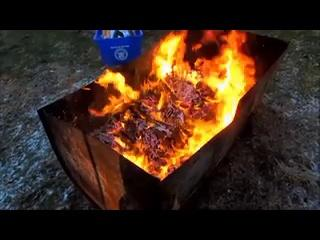Fire: (117, 59, 222, 122)
